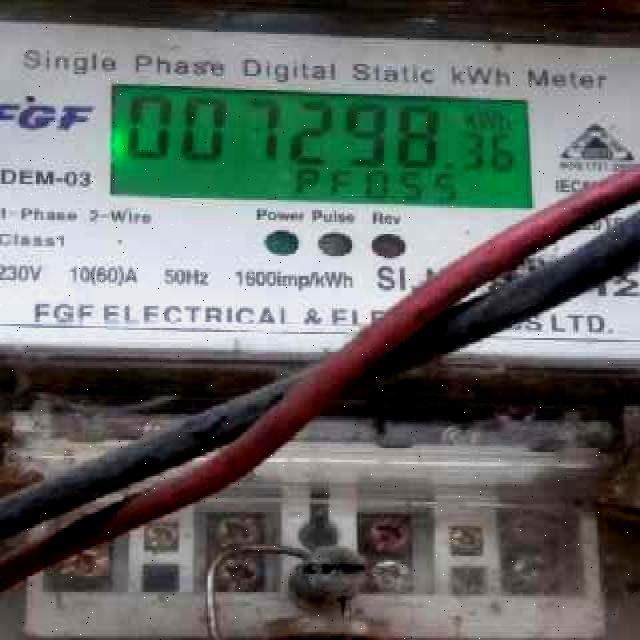LCD: (100, 68, 549, 231)
